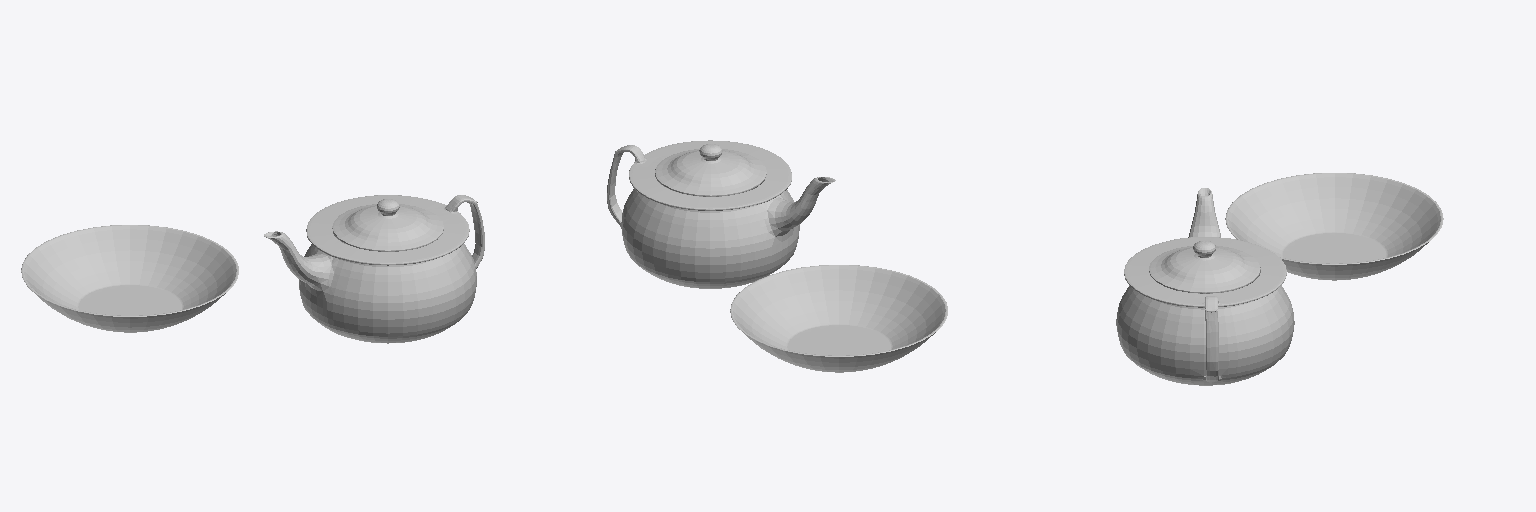
The model's file is full_qhc4.obj.
3 renders of one model, left to right at view 1: azimuth 30°, elevation 25°; view 2: azimuth 150°, elevation 25°; view 3: azimuth 270°, elevation 25°, orthographic.
Visible parts, largest first — view 1: FBXASC051DFBXASC232FBXASC181FBXASC132FBXASC230FBXASC186FBXASC144; view 2: FBXASC051DFBXASC232FBXASC181FBXASC132FBXASC230FBXASC186FBXASC144; view 3: FBXASC051DFBXASC232FBXASC181FBXASC132FBXASC230FBXASC186FBXASC144.
Part boxes in pixels (x1,y1,x2,y2): FBXASC051DFBXASC232FBXASC181FBXASC132FBXASC230FBXASC186FBXASC144: (21,195,484,343); FBXASC051DFBXASC232FBXASC181FBXASC132FBXASC230FBXASC186FBXASC144: (607,140,947,372); FBXASC051DFBXASC232FBXASC181FBXASC132FBXASC230FBXASC186FBXASC144: (1116,173,1443,385).
Size of the model in its own units: 6.17 by 1.82 by 4.53.